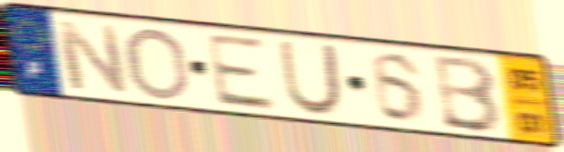6: (368, 51, 430, 125)
B: (432, 53, 506, 136)
E: (203, 31, 280, 113)
N: (52, 18, 133, 97)
O: (124, 25, 194, 103)
U: (275, 38, 346, 119)
